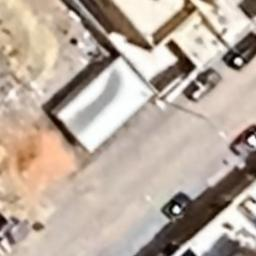sedan: (184, 68, 222, 102), (162, 190, 190, 220), (231, 124, 256, 156)
truck: (231, 40, 256, 70)
